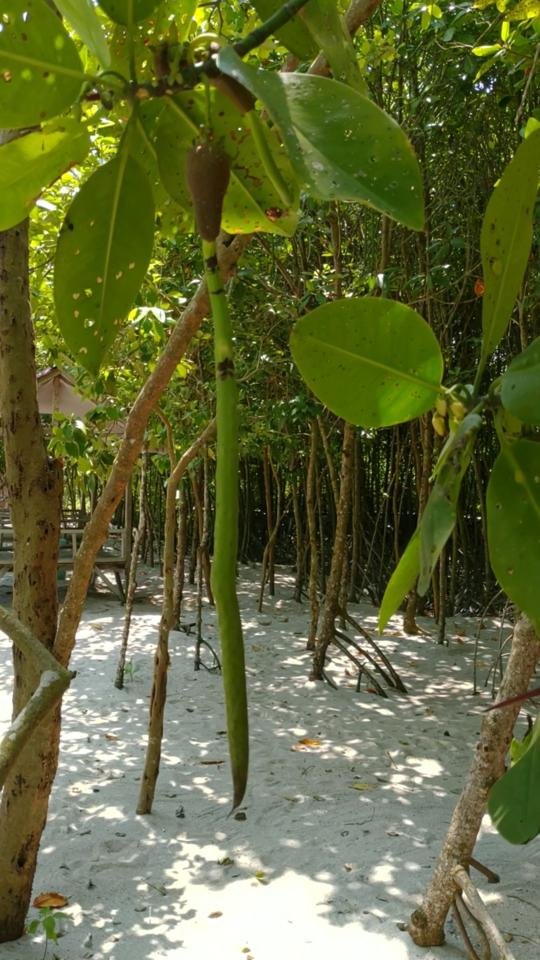mentah: (172, 122, 274, 818)
